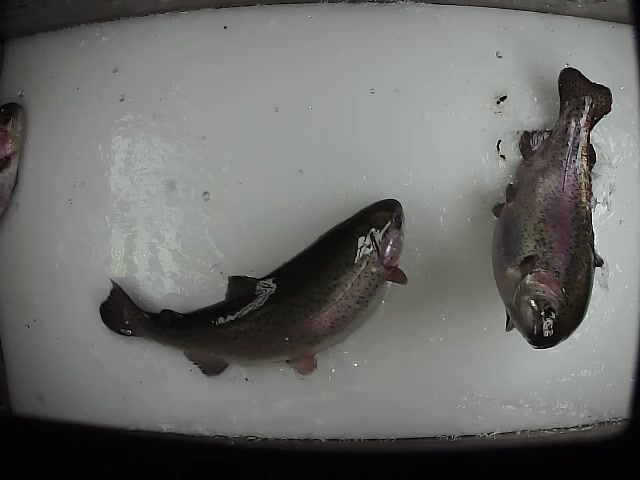fish: (98, 197, 412, 380), (490, 63, 614, 350), (1, 95, 29, 221)
